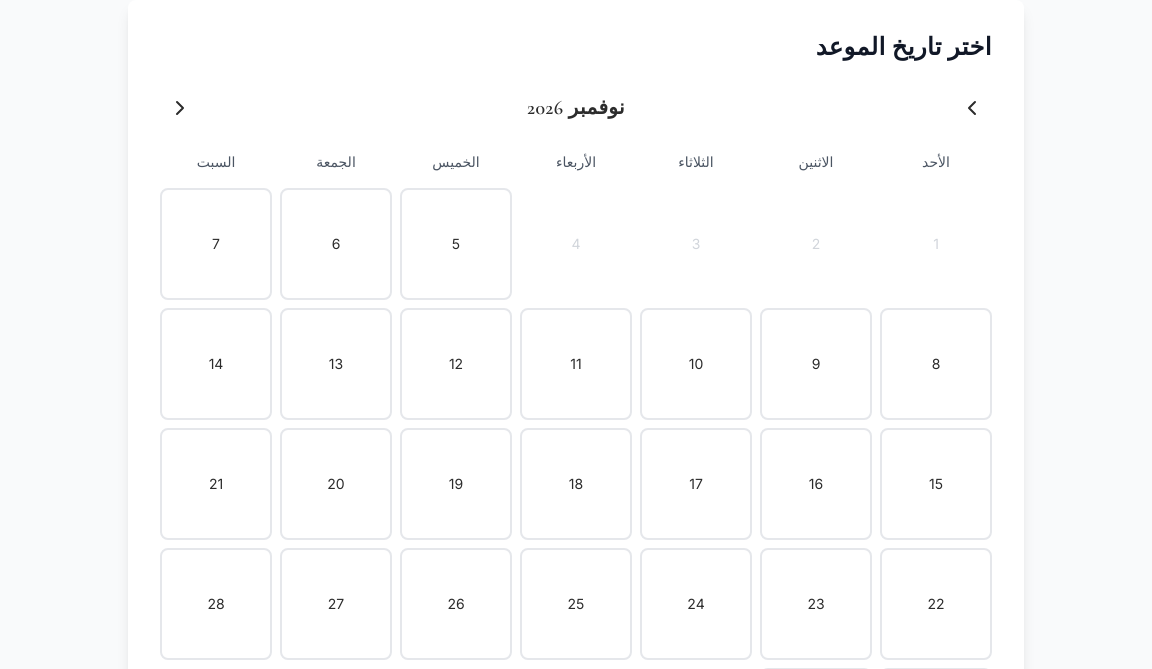
Test: Appointment calendar translations › shows translated labels and weekday names in ar
Expected: the heading "اختر تاريخ الموعد" is shown, [816,33,992,62]
Expected: the button named "الشهر السابق" is shown, [952,88,992,128]
Step 1. Click the button named "الشهر التالي" → (180, 108), box [160,88,200,128]
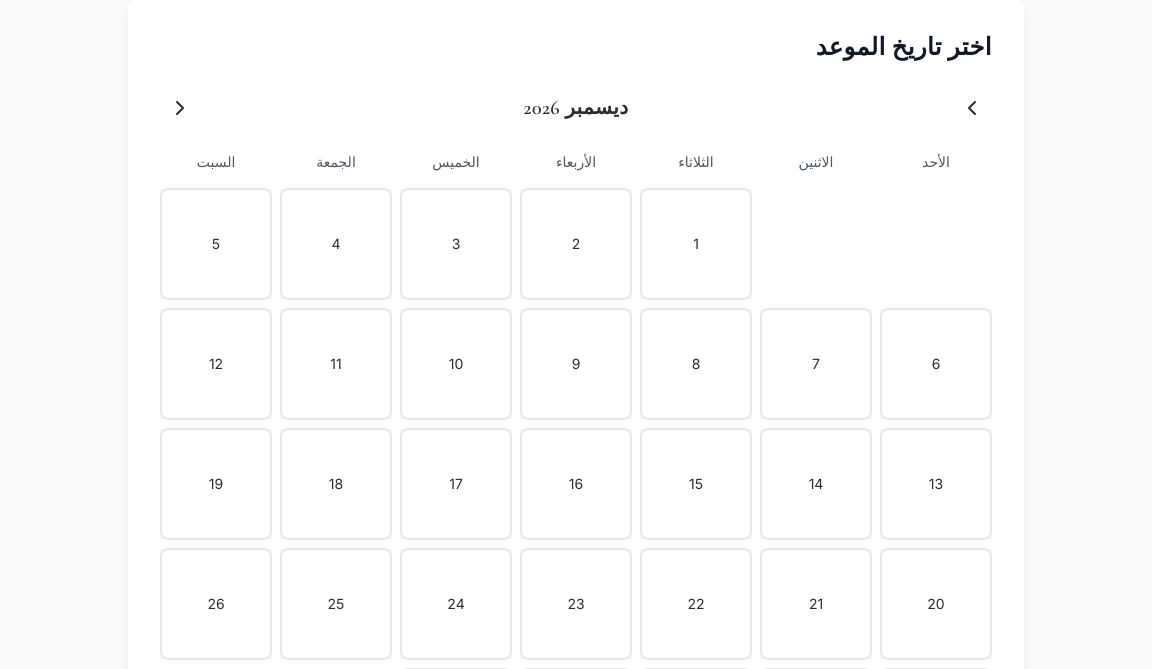
Step 2. Click the button named "الشهر التالي" → (180, 108), box [160,88,200,128]
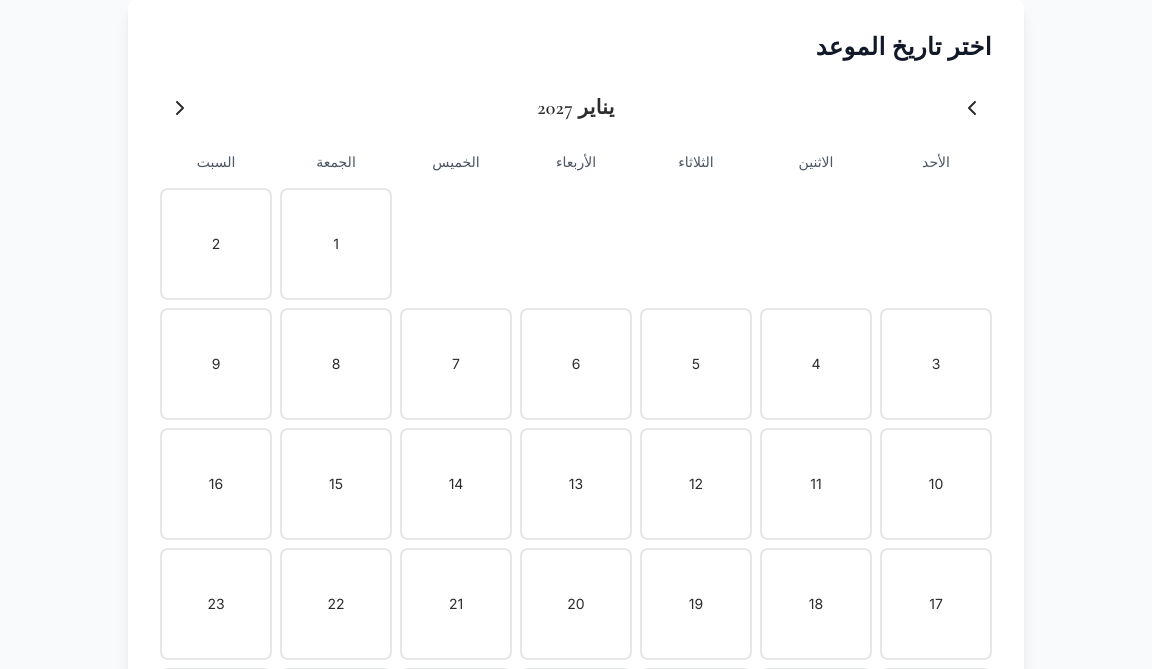
Step 3. Click the button "1" → (336, 244), box [280,188,392,300]
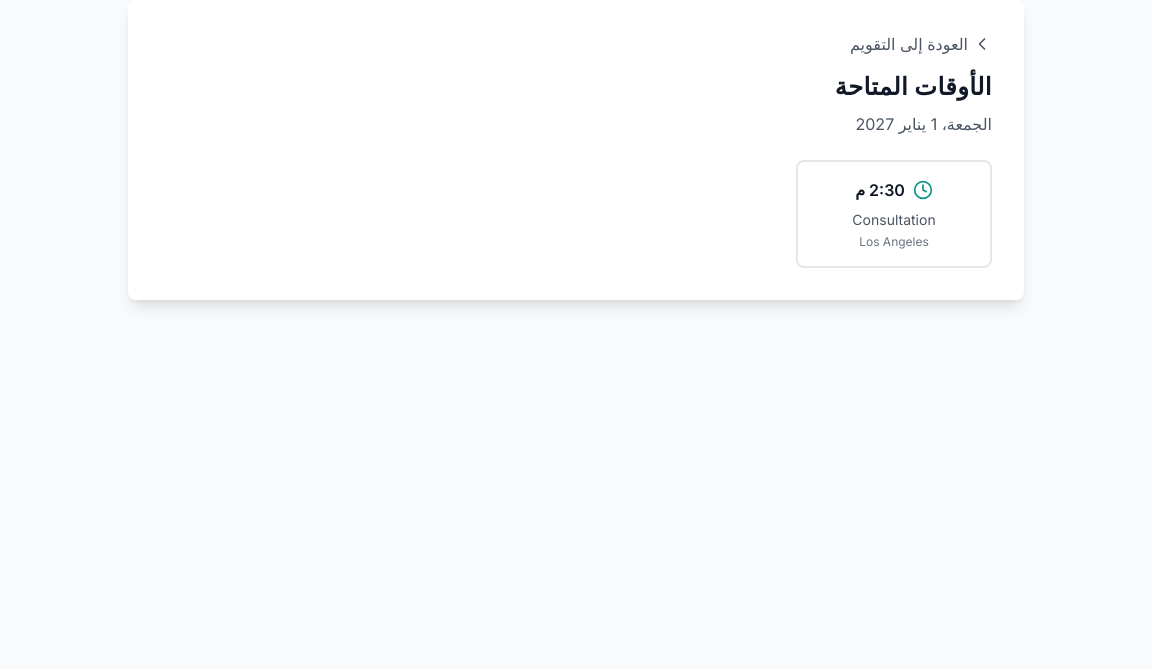
Now the heading "الأوقات المتاحة" is shown, box [835,73,992,102]
Now the button "العودة إلى التقويم" is shown, box [850,32,992,56]
